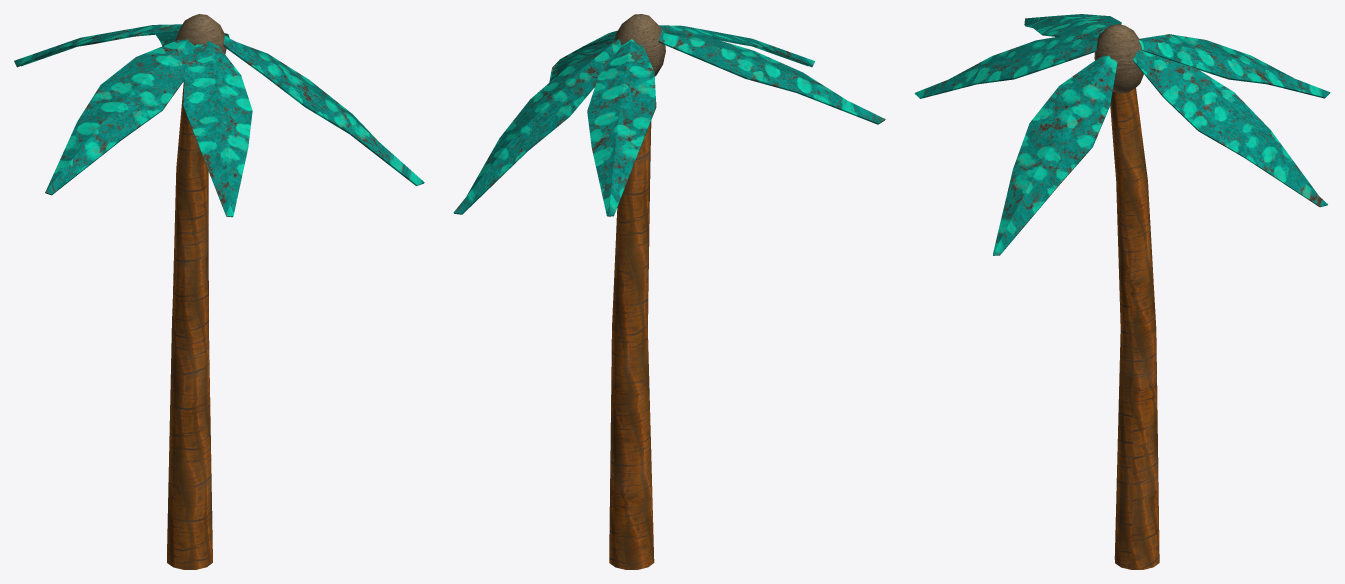
File: Sea_PalmTree2_SM.fbx
3 renders of one model, left to right at view 1: azimuth 30°, elevation 25°; view 2: azimuth 150°, elevation 25°; view 3: azimuth 270°, elevation 25°, orthographic. The views are drawn at different scales.
Parts seen in each view (by area): view 1: Sea_PalmTree2_SM; view 2: Sea_PalmTree2_SM; view 3: Sea_PalmTree2_SM.
Boxes of the visible parts, bbox=[...] form: Sea_PalmTree2_SM: bbox=[14, 14, 424, 569]; Sea_PalmTree2_SM: bbox=[453, 14, 885, 569]; Sea_PalmTree2_SM: bbox=[914, 14, 1330, 569].
Size of the model in its own units: 709 by 1028 by 725.
